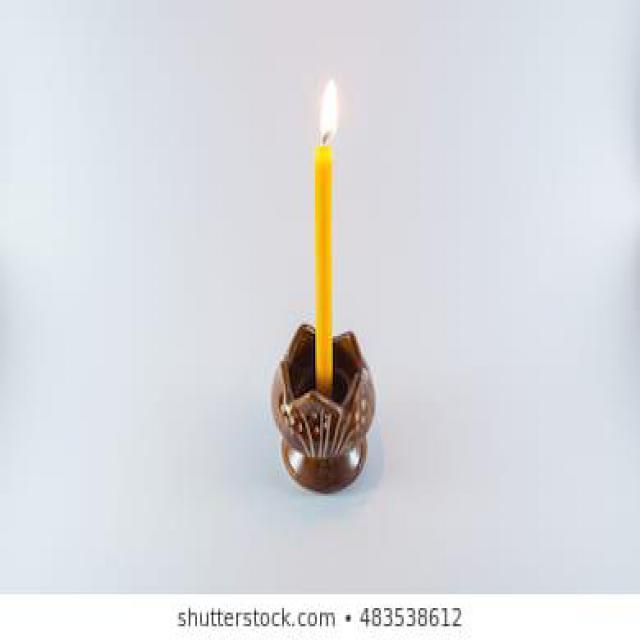Fire: (320, 77, 340, 142)
